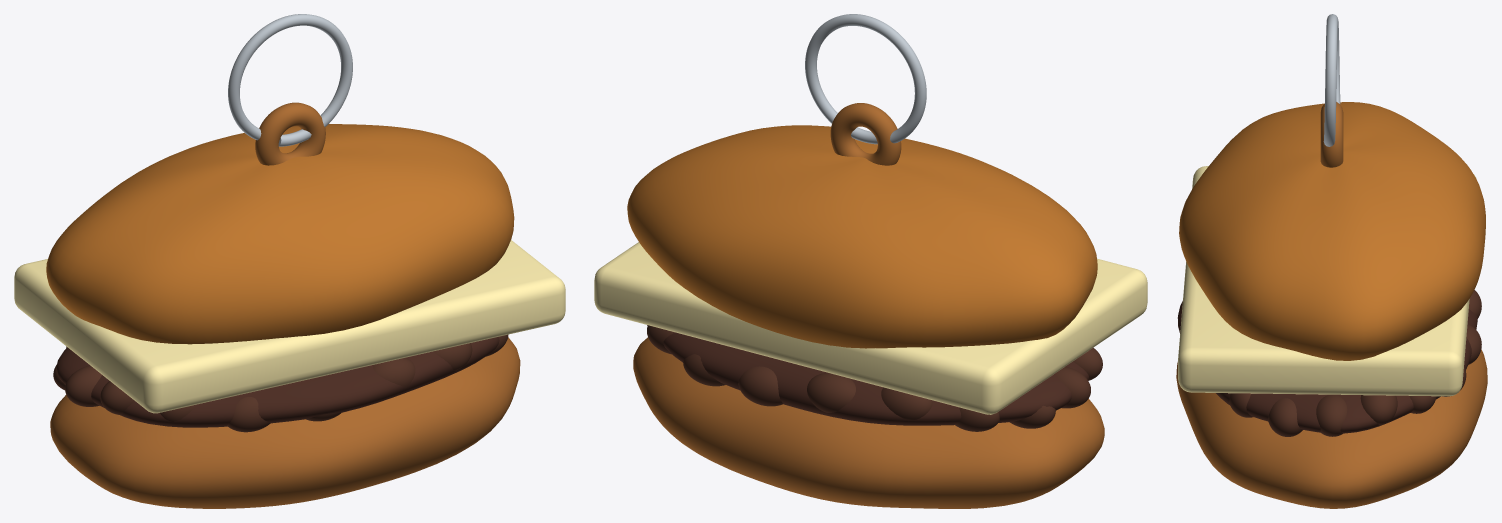
Rendered from anbata.glb.
The picture shows the model from 3 angles, left to right: view 1: azimuth 30°, elevation 25°; view 2: azimuth 150°, elevation 25°; view 3: azimuth 270°, elevation 25°; orthographic projection. The views are drawn at different scales.
Visible parts, largest first — view 1: Bread_top_plump_crown, Bread_bottom_rounded_heel, Butter_thick_slab, Anko_thick_continuous_filling, Metal_split_ring, Resin_attachment_eyelet, Anko_bean_soft_lobe_10, Anko_bean_soft_lobe_13, Anko_bean_soft_lobe_15, Anko_bean_soft_lobe_11, Anko_bean_soft_lobe_16; view 2: Bread_top_plump_crown, Bread_bottom_rounded_heel, Butter_thick_slab, Anko_thick_continuous_filling, Metal_split_ring, Resin_attachment_eyelet, Anko_bean_soft_lobe_06, Anko_bean_soft_lobe_05, Anko_bean_soft_lobe_07, Anko_bean_soft_lobe_10, Anko_bean_soft_lobe_08, Anko_bean_soft_lobe_04; view 3: Bread_top_plump_crown, Bread_bottom_rounded_heel, Butter_thick_slab, Anko_thick_continuous_filling, Metal_split_ring, Anko_bean_soft_lobe_01, Resin_attachment_eyelet, Anko_bean_soft_lobe_18, Anko_bean_soft_lobe_02, Anko_bean_soft_lobe_17, Anko_bean_soft_lobe_05, Anko_bean_soft_lobe_03.
Part boxes in pixels (x1,y1,x2,y2): Bread_top_plump_crown: [46, 124, 514, 344]; Bread_bottom_rounded_heel: [50, 337, 520, 508]; Butter_thick_slab: [14, 240, 565, 413]; Anko_thick_continuous_filling: [56, 337, 499, 427]; Metal_split_ring: [228, 14, 352, 146]; Resin_attachment_eyelet: [255, 102, 325, 165]; Anko_bean_soft_lobe_10: [65, 365, 101, 406]; Anko_bean_soft_lobe_13: [227, 397, 270, 432]; Anko_bean_soft_lobe_15: [373, 357, 415, 390]; Anko_bean_soft_lobe_11: [100, 381, 134, 415]; Anko_bean_soft_lobe_16: [433, 343, 472, 370]; Bread_top_plump_crown: [627, 125, 1097, 348]; Bread_bottom_rounded_heel: [633, 337, 1104, 508]; Butter_thick_slab: [594, 242, 1147, 414]; Anko_thick_continuous_filling: [647, 325, 1089, 425]; Metal_split_ring: [805, 14, 926, 144]; Resin_attachment_eyelet: [830, 103, 901, 165]; Anko_bean_soft_lobe_06: [807, 372, 855, 412]; Anko_bean_soft_lobe_05: [738, 366, 782, 406]; Anko_bean_soft_lobe_07: [881, 387, 932, 419]; Anko_bean_soft_lobe_10: [1055, 366, 1090, 408]; Anko_bean_soft_lobe_08: [955, 407, 999, 431]; Anko_bean_soft_lobe_04: [683, 354, 725, 386]; Bread_top_plump_crown: [1179, 102, 1485, 360]; Bread_bottom_rounded_heel: [1176, 349, 1487, 508]; Butter_thick_slab: [1178, 166, 1476, 396]; Anko_thick_continuous_filling: [1177, 301, 1477, 433]; Metal_split_ring: [1323, 14, 1340, 146]; Anko_bean_soft_lobe_01: [1316, 394, 1347, 436]; Resin_attachment_eyelet: [1320, 102, 1343, 167]; Anko_bean_soft_lobe_18: [1268, 398, 1302, 436]; Anko_bean_soft_lobe_02: [1360, 395, 1397, 425]; Anko_bean_soft_lobe_17: [1229, 393, 1253, 417]; Anko_bean_soft_lobe_05: [1466, 324, 1481, 364]; Anko_bean_soft_lobe_03: [1409, 396, 1436, 413].
Bounding box in the file's own units: 0.0501 × 0.0489 × 0.0318.
